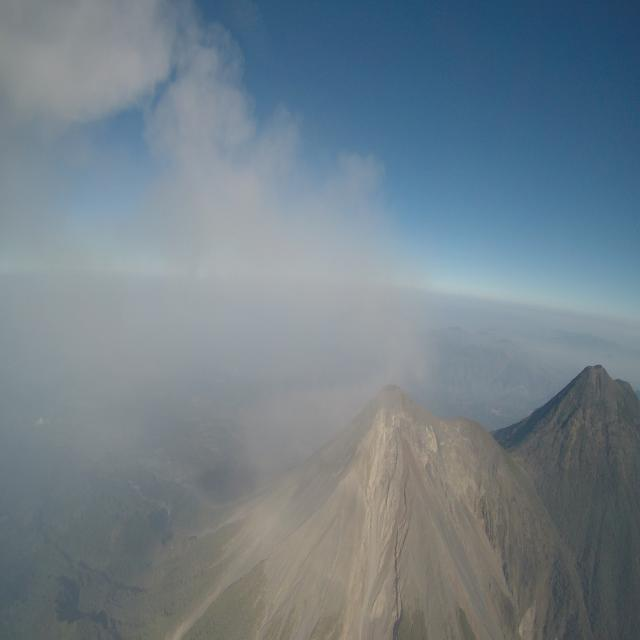Plume: (0, 0, 197, 139)
Summit: (341, 380, 427, 434)
